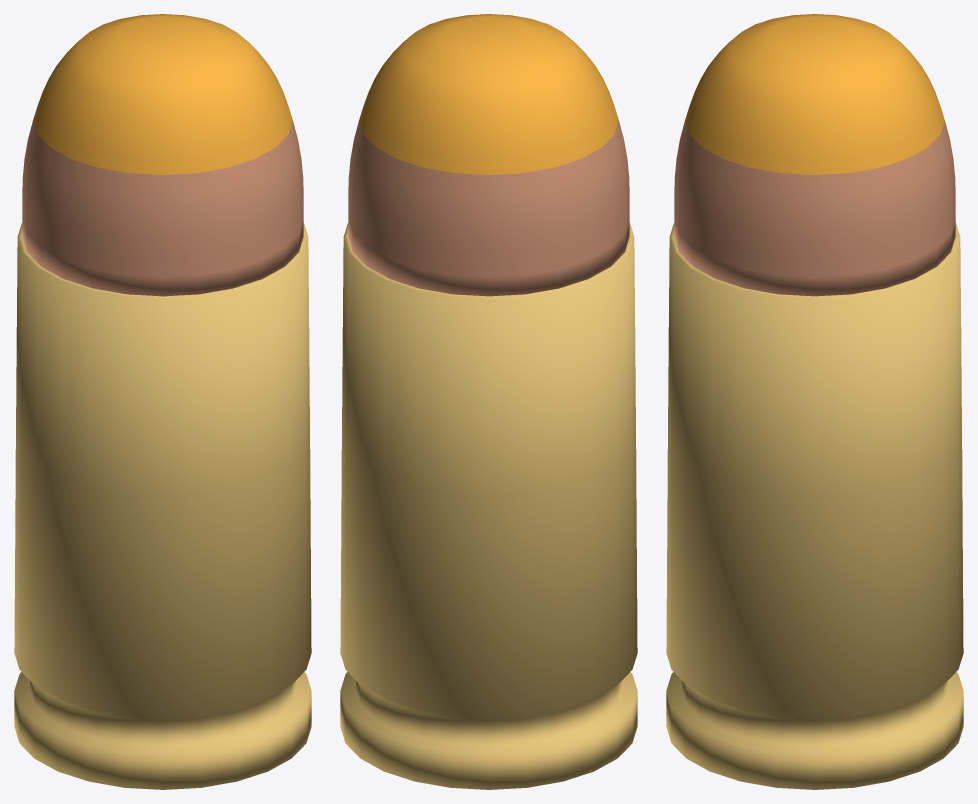
The picture shows the model from 3 angles, left to right: view 1: azimuth 30°, elevation 25°; view 2: azimuth 150°, elevation 25°; view 3: azimuth 270°, elevation 25°; orthographic projection.
Parts seen in each view (by area): view 1: vaina, bala_cuerpo, punta; view 2: vaina, bala_cuerpo, punta; view 3: vaina, bala_cuerpo, punta.
Part boxes in pixels (<box>): vaina: <box>14,222,311,789</box>; bala_cuerpo: <box>22,120,303,296</box>; punta: <box>33,14,292,174</box>; vaina: <box>340,222,637,789</box>; bala_cuerpo: <box>348,120,629,296</box>; punta: <box>359,14,618,174</box>; vaina: <box>666,222,963,789</box>; bala_cuerpo: <box>674,120,955,296</box>; punta: <box>685,14,944,174</box>.
Size of the model in its own units: 0.0095 by 0.0244 by 0.0095.
